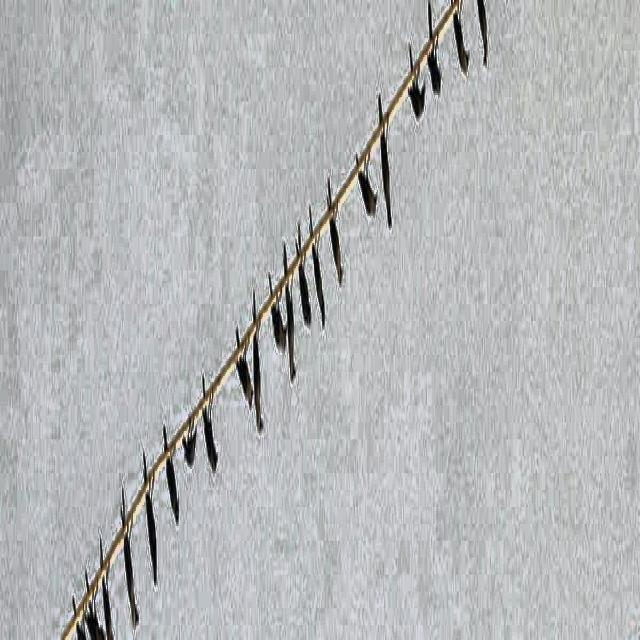crow: (113, 480, 139, 630), (139, 449, 161, 612), (198, 369, 218, 511), (55, 568, 94, 640), (54, 568, 93, 640), (160, 423, 180, 563), (353, 148, 380, 246), (181, 392, 200, 526), (326, 184, 346, 308), (251, 296, 267, 449), (402, 45, 426, 147), (267, 263, 289, 372), (231, 324, 253, 430), (97, 526, 112, 640)
